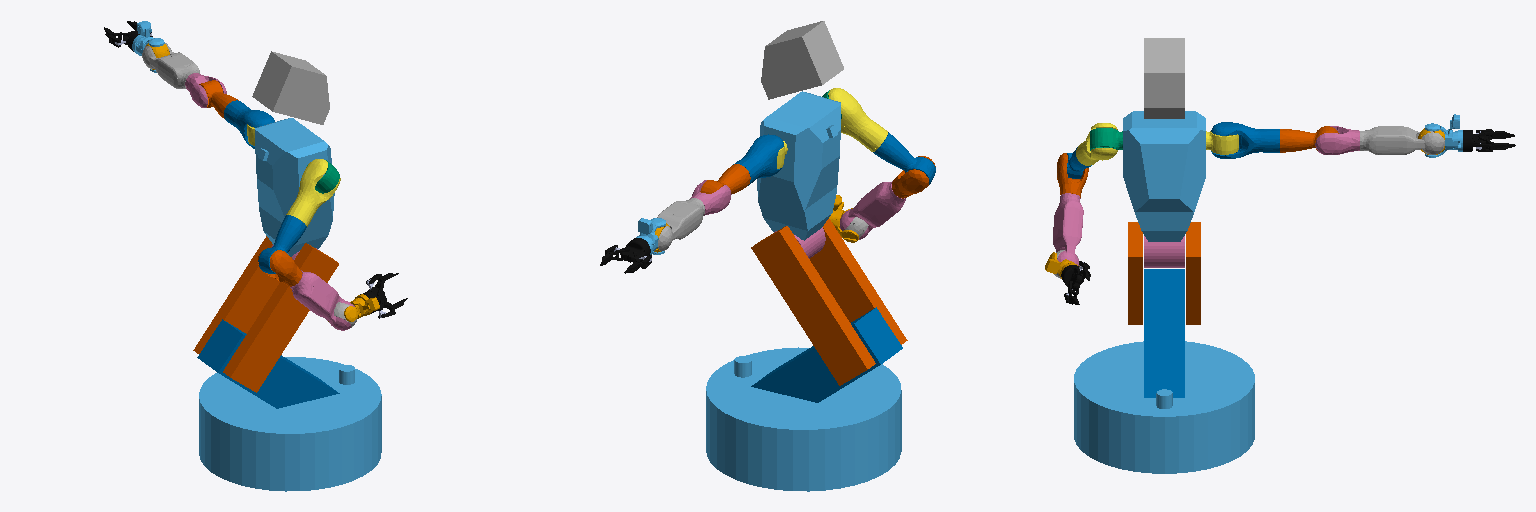
--- What the picture shows (computed from the rendered views, not written in the file) ---
Views: 3 orthographic renders of the robot side by side, from view 1: azimuth 30°, elevation 25°; view 2: azimuth 150°, elevation 25°; view 3: azimuth 270°, elevation 25°.
Robot: galbot_one_charlie — 53 links, 52 joints (13 revolute, 39 fixed); root link base_link; default pose: all joints at 0.
Visible links, largest first — view 1: omni_chassis_base_link, leg_link2, torso_base_link, head_link2, leg_link1, right_arm_link5, right_arm_link2, left_arm_link5, right_arm_link3, left_arm_link2, right_arm_link4, left_arm_link3 (+3 smaller); view 2: omni_chassis_base_link, leg_link2, torso_base_link, head_link2, leg_link1, right_arm_link5, right_arm_link2, left_arm_link5, left_arm_link2, right_arm_link3, left_arm_link3, right_arm_link4 (+2 smaller); view 3: omni_chassis_base_link, torso_base_link, leg_link1, head_link2, leg_link2, left_arm_link5, right_arm_link5, left_arm_link2, leg_link3, left_arm_link4, left_arm_link3, right_arm_link2 (+4 smaller).
Boxes of the visible links, <box> form: omni_chassis_base_link: <box>199,357,381,491</box>; leg_link2: <box>193,236,338,392</box>; torso_base_link: <box>255,118,334,256</box>; head_link2: <box>252,51,329,124</box>; leg_link1: <box>197,319,339,408</box>; right_arm_link5: <box>290,270,354,330</box>; right_arm_link2: <box>286,159,340,226</box>; left_arm_link5: <box>142,43,199,88</box>; right_arm_link3: <box>258,215,306,273</box>; left_arm_link2: <box>224,100,274,148</box>; right_arm_link4: <box>258,250,302,286</box>; left_arm_link3: <box>199,80,238,118</box>; omni_chassis_base_link: <box>706,347,901,491</box>; leg_link2: <box>751,219,907,385</box>; torso_base_link: <box>757,91,840,240</box>; head_link2: <box>761,21,843,99</box>; leg_link1: <box>751,307,902,402</box>; right_arm_link5: <box>840,181,905,239</box>; right_arm_link2: <box>828,88,887,151</box>; left_arm_link5: <box>657,198,704,251</box>; left_arm_link2: <box>733,134,783,185</box>; right_arm_link3: <box>873,132,935,184</box>; left_arm_link3: <box>700,164,750,193</box>; right_arm_link4: <box>892,156,935,198</box>; omni_chassis_base_link: <box>1074,341,1254,473</box>; torso_base_link: <box>1123,111,1205,241</box>; leg_link1: <box>1144,269,1184,397</box>; head_link2: <box>1144,38,1184,118</box>; leg_link2: <box>1128,222,1200,324</box>; left_arm_link5: <box>1360,126,1444,154</box>; right_arm_link5: <box>1053,193,1083,265</box>; left_arm_link2: <box>1211,122,1279,158</box>; leg_link3: <box>1144,236,1184,267</box>; left_arm_link4: <box>1315,126,1359,154</box>; left_arm_link3: <box>1280,126,1338,152</box>; right_arm_link2: <box>1076,123,1117,165</box>.
Size in the robot's own frame: 0.6335 by 1.61 by 1.48 metres.
Meshes: 19 distinct files referenced, 39 mesh visuals loaded (7 binary STL, 12 OBJ).

The robot description file, URDF, robot "galbot_one_charlie":
<?xml version='1.0' encoding='UTF-8'?>
<robot name="galbot_one_charlie">
    <link name="base_link">
        <inertial>
            <origin xyz="0.0 0.0 0.0" rpy="0.0 -0.0 0.0"/>
            <mass value="1.0"/>
            <inertia ixx="1.0" ixy="0.0" ixz="0.0" iyy="1.0" iyz="0.0" izz="1.0"/>
        </inertial>
    </link>
    <link name="omni_chassis_base_link">
        <inertial>
            <origin xyz="0.0031 0.00022 0.09001" rpy="0.0 0.0 0.0"/>
            <mass value="25.85"/>
            <inertia ixx="1.12288" ixy="0.00076" ixz="0.02446" iyy="1.15522" iyz="0.00086" izz="1.58321"/>
        </inertial>
        <visual>
            <geometry>
                <mesh filename="meshes/chassis/omni_chassis_base_link.stl"/>
            </geometry>
            <origin xyz="0.0 0.0 0.0" rpy="0.0 0.0 0.0"/>
        </visual>
        <collision>
            <geometry>
                <sphere radius="0.124"/>
            </geometry>
            <origin xyz="0.0 -0.2 0.11" rpy="0.0 -0.0 0.0"/>
        </collision>
        <collision>
            <geometry>
                <sphere radius="0.124"/>
            </geometry>
            <origin xyz="0.0 0.2 0.11" rpy="0.0 -0.0 0.0"/>
        </collision>
        <collision>
            <geometry>
                <sphere radius="0.1"/>
            </geometry>
            <origin xyz="0.23 0.0 0.19" rpy="0.0 -0.0 0.0"/>
        </collision>
        <collision>
            <geometry>
                <sphere radius="0.1"/>
            </geometry>
            <origin xyz="0.23 0.0 0.08" rpy="0.0 -0.0 0.0"/>
        </collision>
        <collision>
            <geometry>
                <sphere radius="0.124"/>
            </geometry>
            <origin xyz="-0.219 0.0 0.11" rpy="0.0 -0.0 0.0"/>
        </collision>
        <collision>
            <geometry>
                <sphere radius="0.124"/>
            </geometry>
            <origin xyz="-0.157 -0.157 0.11" rpy="0.0 -0.0 0.0"/>
        </collision>
        <collision>
            <geometry>
                <sphere radius="0.123"/>
            </geometry>
            <origin xyz="0.157 0.157 0.11" rpy="0.0 -0.0 0.0"/>
        </collision>
        <collision>
            <geometry>
                <sphere radius="0.123"/>
            </geometry>
            <origin xyz="-0.157 0.157 0.11" rpy="0.0 -0.0 0.0"/>
        </collision>
        <collision>
            <geometry>
                <sphere radius="0.123"/>
            </geometry>
            <origin xyz="0.157 -0.157 0.11" rpy="0.0 -0.0 0.0"/>
        </collision>
    </link>
    <link name="omni_chassis_leg_mount_link">
        <inertial>
            <origin xyz="0.0 0.0 0.0" rpy="0.0 0.0 0.0"/>
            <mass value="0.0"/>
            <inertia ixx="0.0" ixy="0.0" ixz="0.0" iyy="0.0" iyz="0.0" izz="0.0"/>
        </inertial>
    </link>
    <link name="leg_base_link">
        <inertial>
            <origin xyz="0.00138 -0.01502 -0.0536" rpy="0.0 0.0 0.0"/>
            <mass value="1.98"/>
            <inertia ixx="0.01545" ixy="0.00015" ixz="-0.00028" iyy="0.01172" iyz="-0.00071" izz="0.00904"/>
        </inertial>
    </link>
    <link name="leg_link1">
        <inertial>
            <origin xyz="0.23126 0.00187 -0.01166" rpy="0.0 0.0 0.0"/>
            <mass value="13.38"/>
            <inertia ixx="0.0554" ixy="0.00267" ixz="-0.03511" iyy="1.1704" iyz="-0.00012" izz="1.15967"/>
        </inertial>
        <visual>
            <geometry>
                <mesh filename="meshes/leg/leg_link1.stl"/>
            </geometry>
            <origin xyz="0.0 0.0 0.0" rpy="0.0 0.0 0.0"/>
        </visual>
        <collision>
            <geometry>
                <sphere radius="0.1"/>
            </geometry>
            <origin xyz="0.0 0.0 0.0" rpy="0.0 -0.0 0.0"/>
        </collision>
        <collision>
            <geometry>
                <sphere radius="0.1"/>
            </geometry>
            <origin xyz="0.1 -0.03 0.0" rpy="0.0 -0.0 0.0"/>
        </collision>
        <collision>
            <geometry>
                <sphere radius="0.1"/>
            </geometry>
            <origin xyz="0.22 -0.03 0.0" rpy="0.0 -0.0 0.0"/>
        </collision>
        <collision>
            <geometry>
                <sphere radius="0.1"/>
            </geometry>
            <origin xyz="0.33 -0.03 0.0" rpy="0.0 -0.0 0.0"/>
        </collision>
    </link>
    <link name="leg_link2">
        <inertial>
            <origin xyz="0.1834 1e-05 0.01143" rpy="0.0 0.0 0.0"/>
            <mass value="4.72"/>
            <inertia ixx="0.04727" ixy="1e-05" ixz="0.01147" iyy="0.29026" iyz="1e-05" izz="0.25782"/>
        </inertial>
        <visual>
            <geometry>
                <mesh filename="meshes/leg/leg_link2.stl"/>
            </geometry>
            <origin xyz="0.0 0.0 0.0" rpy="0.0 0.0 0.0"/>
        </visual>
        <collision>
            <geometry>
                <sphere radius="0.14"/>
            </geometry>
            <origin xyz="0.0 0.0 0.0" rpy="0.0 -0.0 0.0"/>
        </collision>
        <collision>
            <geometry>
                <sphere radius="0.14"/>
            </geometry>
            <origin xyz="0.13 0.0 0.0" rpy="0.0 -0.0 0.0"/>
        </collision>
        <collision>
            <geometry>
                <sphere radius="0.14"/>
            </geometry>
            <origin xyz="0.26 0.0 0.0" rpy="0.0 -0.0 0.0"/>
        </collision>
        <collision>
            <geometry>
                <sphere radius="0.14"/>
            </geometry>
            <origin xyz="0.4 0.0 0.0" rpy="0.0 -0.0 0.0"/>
        </collision>
    </link>
    <link name="leg_link3">
        <inertial>
            <origin xyz="4e-05 0.03287 -0.00556" rpy="0.0 0.0 0.0"/>
            <mass value="6.04"/>
            <inertia ixx="0.02981" ixy="1e-05" ixz="-0.0" iyy="0.02294" iyz="-0.00079" izz="0.03182"/>
        </inertial>
        <visual>
            <geometry>
                <mesh filename="meshes/leg/leg_link3.stl"/>
            </geometry>
            <origin xyz="0.0 0.0 0.0" rpy="0.0 0.0 0.0"/>
        </visual>
    </link>
    <link name="leg_link4">
        <inertial>
            <origin xyz="6e-05 -3e-05 0.14494" rpy="0.0 0.0 0.0"/>
            <mass value="0.55"/>
            <inertia ixx="0.01267" ixy="0.0" ixz="1e-05" iyy="0.0127" iyz="-0.0" izz="0.00125"/>
        </inertial>
        <visual>
            <geometry>
                <mesh filename="meshes/leg/leg_link4.stl"/>
            </geometry>
            <origin xyz="0.0 0.0 0.0" rpy="0.0 0.0 0.0"/>
        </visual>
    </link>
    <link name="leg_end_effector_mount_link">
        <inertial>
            <origin xyz="0.0 0.0 0.0" rpy="0.0 0.0 0.0"/>
            <mass value="0.0"/>
            <inertia ixx="0.0" ixy="0.0" ixz="0.0" iyy="0.0" iyz="0.0" izz="0.0"/>
        </inertial>
    </link>
    <link name="torso_base_link">
        <inertial>
            <origin xyz="4e-05 0.00011 0.32719" rpy="0.0 0.0 0.0"/>
            <mass value="6.68"/>
            <inertia ixx="0.87119" ixy="9e-05" ixz="-0.00496" iyy="0.85457" iyz="0.00295" izz="0.0656"/>
        </inertial>
        <visual>
            <geometry>
                <mesh filename="meshes/torso/torso_base_link.stl"/>
            </geometry>
            <origin xyz="0.0 0.0 0.0" rpy="0.0 0.0 0.0"/>
        </visual>
        <collision>
            <geometry>
                <sphere radius="0.22"/>
            </geometry>
            <origin xyz="0.0 0.0 0.34" rpy="0.0 -0.0 0.0"/>
        </collision>
        <collision>
            <geometry>
                <sphere radius="0.14"/>
            </geometry>
            <origin xyz="0.0 0.0 0.18" rpy="0.0 -0.0 0.0"/>
        </collision>
        <collision>
            <geometry>
                <sphere radius="0.14"/>
            </geometry>
            <origin xyz="0.0 -0.06 0.38" rpy="0.0 -0.0 0.0"/>
        </collision>
        <collision>
            <geometry>
                <sphere radius="0.14"/>
            </geometry>
            <origin xyz="0.0 0.06 0.38" rpy="0.0 -0.0 0.0"/>
        </collision>
    </link>
    <link name="torso_head_mount_link">
        <inertial>
            <origin xyz="0.0 0.0 0.0" rpy="0.0 0.0 0.0"/>
            <mass value="0.0"/>
            <inertia ixx="0.0" ixy="0.0" ixz="0.0" iyy="0.0" iyz="0.0" izz="0.0"/>
        </inertial>
    </link>
    <link name="torso_right_arm_mount_link">
        <inertial>
            <origin xyz="0.0 0.0 0.0" rpy="0.0 0.0 0.0"/>
            <mass value="0.0"/>
            <inertia ixx="0.0" ixy="0.0" ixz="0.0" iyy="0.0" iyz="0.0" izz="0.0"/>
        </inertial>
    </link>
    <link name="torso_left_arm_mount_link">
        <inertial>
            <origin xyz="0.0 0.0 0.0" rpy="0.0 0.0 0.0"/>
            <mass value="0.0"/>
            <inertia ixx="0.0" ixy="0.0" ixz="0.0" iyy="0.0" iyz="0.0" izz="0.0"/>
        </inertial>
    </link>
    <link name="head_base_link">
        <inertial>
            <origin xyz="0.0 0.0 0.0" rpy="0.0 0.0 0.0"/>
            <mass value="0.0"/>
            <inertia ixx="0.018397" ixy="-6.5897e-07" ixz="0.00030036" iyy="0.013058" iyz="0.00016843" izz="0.0082332"/>
        </inertial>
    </link>
    <link name="head_link1">
        <inertial>
            <origin xyz="0.0 4e-05 -0.04238" rpy="0.0 0.0 0.0"/>
            <mass value="0.41"/>
            <inertia ixx="0.0011" ixy="-0.0" ixz="0.0" iyy="0.00113" iyz="8e-05" izz="0.00014"/>
        </inertial>
    </link>
    <link name="head_link2">
        <inertial>
            <origin xyz="0.032 -0.03753 0.00162" rpy="0.0 0.0 0.0"/>
            <mass value="0.75"/>
            <inertia ixx="0.0038" ixy="-0.0007" ixz="0.0" iyy="0.00367" iyz="-0.0" izz="0.00538"/>
        </inertial>
        <visual>
            <geometry>
                <mesh filename="meshes/head/head_link2.stl"/>
            </geometry>
            <origin xyz="0.0 0.0 0.0" rpy="0.0 0.0 0.0"/>
        </visual>
        <collision>
            <geometry>
                <sphere radius="0.15"/>
            </geometry>
            <origin xyz="0.0 0.0 0.0" rpy="0.0 -0.0 0.0"/>
        </collision>
    </link>
    <link name="head_end_effector_mount_link">
        <inertial>
            <origin xyz="0.0 0.0 0.0" rpy="0.0 0.0 0.0"/>
            <mass value="0.0"/>
            <inertia ixx="0.0" ixy="0.0" ixz="0.0" iyy="0.0" iyz="0.0" izz="0.0"/>
        </inertial>
    </link>

    <!--  Right Arm Links  -->
    <link name="right_arm_base_link">
        <inertial>
            <origin xyz="0.00037 6e-05 -0.11407" rpy="0.0 0.0 0.0"/>
            <mass value="0.9"/>
            <inertia ixx="0.01248" ixy="0.0" ixz="3e-05" iyy="0.01247" iyz="3e-05" izz="0.00056"/>
        </inertial>
    </link>
    <link name="right_arm_link1">
        <inertial>
            <origin xyz="0.0 0.0065 -0.01459" rpy="0.0 0.0 0.0"/>
            <mass value="1.48"/>
            <inertia ixx="0.00378" ixy="0.0" ixz="0.0" iyy="0.0046" iyz="8e-05" izz="0.00217"/>
        </inertial>
        <visual>
            <geometry>
                <mesh filename="meshes/arm/visual/left_arm_link1.obj"/>
            </geometry>
            <origin xyz="0.0 0.0 0.0" rpy="0.0 0.0 0.0"/>
        </visual>
        <collision>
            <geometry>
                <mesh filename="meshes/arm/collision/left_arm_link1.stl"/>
            </geometry>
            <origin xyz="0.0 0.0 0.0" rpy="0.0 0.0 0.0"/>
        </collision>
    </link>
    <link name="right_arm_link2">
        <inertial>
            <origin xyz="-0.0008 -0.09873 0.00815" rpy="0.0 0.0 0.0"/>
            <mass value="1.33"/>
            <inertia ixx="0.01827" ixy="3e-05" ixz="1e-05" iyy="0.00232" iyz="0.0008" izz="0.01769"/>
        </inertial>
        <visual>
            <geometry>
                <mesh filename="meshes/arm/visual/left_arm_link2.obj"/>
            </geometry>
            <origin xyz="0.0 0.0 0.0" rpy="3.14159 0.0 0.0"/>
        </visual>
        <collision>
            <geometry>
                <mesh filename="meshes/arm/collision/left_arm_link2.stl"/>
            </geometry>
            <origin xyz="0.0 0.0 0.0" rpy="3.14159 0.0 0.0"/>
        </collision>
    </link>
    <link name="right_arm_link3">
        <inertial>
            <origin xyz="-0.00019 -0.0033 -0.04824" rpy="0.0 0.0 0.0"/>
            <mass value="1.25"/>
            <inertia ixx="0.00955" ixy="0.0" ixz="1e-05" iyy="0.00983" iyz="7e-05" izz="0.00151"/>
        </inertial>
        <visual>
            <geometry>
                <mesh filename="meshes/arm/visual/left_arm_link3.obj"/>
            </geometry>
            <origin xyz="0.0 0.0 0.0" rpy="0.0 0.0 0.0"/>
        </visual>
        <collision>
            <geometry>
                <mesh filename="meshes/arm/collision/left_arm_link3.stl"/>
            </geometry>
            <origin xyz="0.0 0.0 0.0" rpy="0.0 0.0 0.0"/>
        </collision>
    </link>
    <link name="right_arm_link4">
        <inertial>
            <origin xyz="0.0 -0.06457 0.00899" rpy="0.0 0.0 0.0"/>
            <mass value="0.8"/>
            <inertia ixx="0.00529" ixy="0.0" ixz="0.0" iyy="0.0012" iyz="0.0003" izz="0.00488"/>
        </inertial>
        <visual>
            <geometry>
                <mesh filename="meshes/arm/visual/left_arm_link4.obj"/>
            </geometry>
            <origin xyz="0.0 0.0 0.0" rpy="3.14159 0.0 0.0"/>
        </visual>
        <collision>
            <geometry>
                <mesh filename="meshes/arm/collision/left_arm_link4.stl"/>
            </geometry>
            <origin xyz="0.0 0.0 0.0" rpy="3.14159 0.0 0.0"/>
        </collision>
    </link>
    <link name="right_arm_link5">
        <inertial>
            <origin xyz="0.00201 -0.00042 -0.14589" rpy="0.0 0.0 0.0"/>
            <mass value="1.22"/>
            <inertia ixx="0.03428" ixy="1e-05" ixz="0.00032" iyy="0.03366" iyz="5e-05" izz="0.00222"/>
        </inertial>
        <visual>
            <geometry>
                <mesh filename="meshes/arm/visual/left_arm_link5.obj"/>
            </geometry>
            <origin xyz="0.0 0.0 0.0" rpy="0.0 0.0 0.0"/>
        </visual>
        <collision>
            <geometry>
                <mesh filename="meshes/arm/collision/left_arm_link5.stl"/>
            </geometry>
            <origin xyz="0.0 0.0 0.0" rpy="0.0 0.0 0.0"/>
        </collision>
    </link>
    <link name="right_arm_link6">
        <inertial>
            <origin xyz="0.0 0.01031 0.0" rpy="0.0 0.0 0.0"/>
            <mass value="0.43"/>
            <inertia ixx="0.00051" ixy="0.0" ixz="0.0" iyy="0.0007" iyz="0.0" izz="0.00091"/>
        </inertial>
        <visual>
            <geometry>
                <mesh filename="meshes/arm/visual/left_arm_link6.obj"/>
            </geometry>
            <origin xyz="0.0 0.0 0.0" rpy="0.0 0.0 0.0"/>
        </visual>
        <collision>
            <geometry>
                <mesh filename="meshes/arm/collision/left_arm_link6.stl"/>
            </geometry>
            <origin xyz="0.0 0.0 0.0" rpy="0.0 0.0 0.0"/>
        </collision>
    </link>
    <link name="right_arm_link7">
        <inertial>
            <origin xyz="-0.03291 0.00799 -0.00131" rpy="0.0 0.0 0.0"/>
            <mass value="0.6"/>
            <inertia ixx="0.00124" ixy="0.0003" ixz="0.00013" iyy="0.00198" iyz="7e-05" izz="0.00164"/>
        </inertial>
        <visual>
            <geometry>
                <mesh filename="meshes/arm/visual/left_arm_link7_simple.obj"/>
            </geometry>
            <origin xyz="0.0 0.0 0.0" rpy="0.0 0.0 0.0"/>
        </visual>
        <collision>
            <geometry>
                <mesh filename="meshes/arm/collision/left_arm_link7_simple.stl"/>
            </geometry>
            <origin xyz="0.0 0.0 0.0" rpy="0.0 0.0 0.0"/>
        </collision>
    </link>

    <!--  Right Tool Link  -->
    <link name="right_robotiq_arg2f_base_link">
        <inertial>
            <origin rpy="0 0 0" xyz="8.625E-08 -4.6583E-06 0.03145"/>
            <mass value="0.22652"/>
            <inertia ixx="0.00020005" ixy="-4.2442E-10" ixz="-2.9069E-10" iyy="0.00017832" iyz="-3.4402E-08"
                     izz="0.00013478"/>
        </inertial>
        <visual>
            <origin rpy="0 0 0" xyz="0 0 0"/>
            <geometry>
                <mesh filename="meshes/gripper/visual/robotiq_arg2f_85_base_link.obj"/>
            </geometry>
            <material name="">
                <color rgba="0.1 0.1 0.1 1"/>
            </material>
        </visual>
        <collision>
            <origin rpy="0 0 0" xyz="0 0 0"/>
            <geometry>
                <mesh filename="meshes/gripper/collision/robotiq_arg2f_base_link.stl"/>
            </geometry>
        </collision>
    </link>
    <link name="right_robotiq_left_outer_knuckle">
        <inertial>
            <origin xyz="-0.000200000000003065 0.0199435877845359 0.0292245259211331" rpy="0 0 0"/>
            <mass value="0.00853198276973456"/>
            <inertia ixx="2.89328108496468E-06" ixy="-1.57935047237397E-19" ixz="-1.93980378593255E-19"
                     iyy="1.86719750325683E-06" iyz="-1.21858577871576E-06" izz="1.21905238907251E-06"/>
        </inertial>
        <visual>
            <origin rpy="0 0 0" xyz="0 0 0"/>
            <geometry>
                <mesh filename="meshes/gripper/visual/robotiq_arg2f_85_outer_knuckle.obj"/>
            </geometry>
            <material name="">
                <color rgba="0.792156862745098 0.819607843137255 0.933333333333333 1"/>
            </material>
        </visual>
        <collision>
            <origin rpy="0 0 0" xyz="0 0 0"/>
            <geometry>
                <mesh filename="meshes/gripper/collision/robotiq_arg2f_85_outer_knuckle.obj"/>
            </geometry>
        </collision>
    </link>
    <link name="right_robotiq_left_outer_finger">
        <inertial>
            <origin xyz="0.00030115855001899 0.0373907951953854 -0.0208027427000385" rpy="0 0 0"/>
            <mass value="0.022614240507152"/>
            <inertia ixx="1.52518312458174E-05" ixy="9.76583423954399E-10" ixz="-5.43838577022588E-10"
                     iyy="6.17694243867776E-06" iyz="6.78636130740228E-06" izz="1.16494917907219E-05"/>
        </inertial>
        <visual>
            <origin rpy="0 0 0" xyz="0 0 0"/>
            <geometry>
                <mesh filename="meshes/gripper/visual/robotiq_arg2f_85_outer_finger.obj"/>
            </geometry>
            <material name="">
                <color rgba="0.1 0.1 0.1 1"/>
            </material>
        </visual>
        <collision>
            <origin rpy="0 0 0" xyz="0 0 0"/>
            <geometry>
                <mesh filename="meshes/gripper/collision/robotiq_arg2f_85_outer_finger.obj"/>
            </geometry>
        </collision>
    </link>
    <link name="right_robotiq_left_inner_finger">
        <inertial>
            <origin xyz="0.000299999999999317 0.0160078233491243 -0.0136945669206257" rpy="0 0 0"/>
            <mass value="0.0104003125914103"/>
            <inertia ixx="2.71909453810972E-06" ixy="1.35402465472579E-21" ixz="-7.1817349065269E-22"
                     iyy="7.69100314106116E-07" iyz="6.74715432769696E-07" izz="2.30315190420171E-06"/>
        </inertial>
        <visual>
            <origin rpy="0 0 0" xyz="0 0 0"/>
            <geometry>
                <mesh filename="meshes/gripper/visual/robotiq_arg2f_85_inner_finger_GT.obj"/>
            </geometry>
            <material name="">
                <color rgba="0.1 0.1 0.1 1"/>
            </material>
        </visual>
        <collision>
            <origin rpy="0 0 0" xyz="0 0 0"/>
            <geometry>
                <mesh filename="meshes/gripper/collision/robotiq_arg2f_85_inner_finger_GT_convex.stl"/>
            </geometry>
        </collision>
    </link>
    <link name="right_robotiq_left_inner_knuckle">
        <inertial>
            <origin xyz="0.000123011831763771 0.0507850843201817 0.00103968640075166" rpy="0 0 0"/>
            <mass value="0.0271177346495152"/>
            <inertia ixx="2.61910379223783E-05" ixy="-2.43616858946494E-07" ixz="-6.37789906117123E-09"
                     iyy="2.8270243746167E-06" iyz="-5.37200748039765E-07" izz="2.83695868220296E-05"/>
        </inertial>
        <visual>
            <origin rpy="0 0 0" xyz="0 0 0"/>
            <geometry>
                <mesh filename="meshes/gripper/visual/robotiq_arg2f_85_inner_knuckle.obj"/>
            </geometry>
            <material name="">
                <color rgba="0.1 0.1 0.1 1"/>
            </material>
        </visual>
        <collision>
            <origin rpy="0 0 0" xyz="0 0 0"/>
            <geometry>
                <mesh filename="meshes/gripper/collision/robotiq_arg2f_85_inner_knuckle.obj"/>
            </geometry>
        </collision>
    </link>
    <link name="right_robotiq_right_outer_knuckle">
        <inertial>
            <origin xyz="-0.000200000000003065 0.0199435877845359 0.0292245259211331" rpy="0 0 0"/>
            <mass value="0.00853198276973456"/>
            <inertia ixx="2.89328108496468E-06" ixy="-1.57935047237397E-19" ixz="-1.93980378593255E-19"
                     iyy="1.86719750325683E-06" iyz="-1.21858577871576E-06" izz="1.21905238907251E-06"/>
        </inertial>
        <visual>
            <origin rpy="0 0 0" xyz="0 0 0"/>
            <geometry>
                <mesh filename="meshes/gripper/visual/robotiq_arg2f_85_outer_knuckle.obj"/>
            </geometry>
            <material name="">
                <color rgba="0.792156862745098 0.819607843137255 0.933333333333333 1"/>
            </material>
        </visual>
        <collision>
            <origin rpy="0 0 0" xyz="0 0 0"/>
            <geometry>
                <mesh filename="meshes/gripper/collision/robotiq_arg2f_85_outer_knuckle.obj"/>
            </geometry>
        </collision>
    </link>
    <link name="right_robotiq_right_outer_finger">
        <inertial>
            <origin xyz="0.00030115855001899 0.0373907951953854 -0.0208027427000385" rpy="0 0 0"/>
            <mass value="0.022614240507152"/>
            <inertia ixx="1.52518312458174E-05" ixy="9.76583423954399E-10" ixz="-5.43838577022588E-10"
                     iyy="6.17694243867776E-06" iyz="6.78636130740228E-06" izz="1.16494917907219E-05"/>
        </inertial>
        <visual>
            <origin rpy="0 0 0" xyz="0 0 0"/>
            <geometry>
                <mesh filename="meshes/gripper/visual/robotiq_arg2f_85_outer_finger.obj"/>
            </geometry>
            <material name="">
                <color rgba="0.1 0.1 0.1 1"/>
            </material>
        </visual>
        <collision>
            <origin rpy="0 0 0" xyz="0 0 0"/>
            <geometry>
                <mesh filename="meshes/gripper/collision/robotiq_arg2f_85_outer_finger.obj"/>
            </geometry>
        </collision>
    </link>
    <link name="right_robotiq_right_inner_finger">
        <inertial>
            <origin xyz="0.000299999999999317 0.0160078233491243 -0.0136945669206257" rpy="0 0 0"/>
            <mass value="0.0104003125914103"/>
            <inertia ixx="2.71909453810972E-06" ixy="1.35402465472579E-21" ixz="-7.1817349065269E-22"
                     iyy="7.69100314106116E-07" iyz="6.74715432769696E-07" izz="2.30315190420171E-06"/>
        </inertial>
        <visual>
            <origin rpy="0 0 0" xyz="0 0 0"/>
            <geometry>
                <mesh filename="meshes/gripper/visual/robotiq_arg2f_85_inner_finger_GT.obj"/>
            </geometry>
            <material name="">
                <color rgba="0.1 0.1 0.1 1"/>
            </material>
        </visual>
        <collision>
            <origin rpy="0 0 0" xyz="0 0 0"/>
            <geometry>
                <mesh filename="meshes/gripper/collision/robotiq_arg2f_85_inner_finger_GT_convex.stl"/>
            </geometry>
        </collision>
    </link>
    <link name="right_robotiq_right_inner_knuckle">
        <inertial>
            <origin xyz="0.000123011831763771 0.0507850843201817 0.00103968640075166" rpy="0 0 0"/>
            <mass value="0.0271177346495152"/>
            <inertia ixx="2.61910379223783E-05" ixy="-2.43616858946494E-07" ixz="-6.37789906117123E-09"
                     iyy="2.8270243746167E-06" iyz="-5.37200748039765E-07" izz="2.83695868220296E-05"/>
        </inertial>
        <visual>
            <origin rpy="0 0 0" xyz="0 0 0"/>
            <geometry>
                <mesh filename="meshes/gripper/visual/robotiq_arg2f_85_inner_knuckle.obj"/>
            </geometry>
            <material name="">
                <color rgba="0.1 0.1 0.1 1"/>
            </material>
        </visual>
        <collision>
            <origin rpy="0 0 0" xyz="0 0 0"/>
            <geometry>
                <mesh filename="meshes/gripper/collision/robotiq_arg2f_85_inner_knuckle.obj"/>
            </geometry>
        </collision>
    </link>

    <!--  Left Arm Links  -->
    <link name="left_arm_base_link">
        <inertial>
            <origin xyz="-0.00037 -6e-05 -0.11407" rpy="0.0 0.0 0.0"/>
            <mass value="0.9"/>
            <inertia ixx="0.01248" ixy="0.0" ixz="3e-05" iyy="0.01247" iyz="3e-05" izz="0.00056"/>
        </inertial>
    </link>
    <link name="left_arm_link1">
        <inertial>
            <origin xyz="0.0 0.0065 -0.01459" rpy="0.0 0.0 0.0"/>
            <mass value="1.48"/>
            <inertia ixx="0.00378" ixy="0.0" ixz="0.0" iyy="0.0046" iyz="0.0002" izz="0.00217"/>
        </inertial>
        <visual>
            <geometry>
                <mesh filename="meshes/arm/visual/left_arm_link1.obj"/>
            </geometry>
            <origin xyz="0.0 0.0 0.0" rpy="0.0 0.0 0.0"/>
        </visual>
        <collision>
            <geometry>
                <mesh filename="meshes/arm/collision/left_arm_link1.stl"/>
            </geometry>
            <origin xyz="0.0 0.0 0.0" rpy="0.0 0.0 0.0"/>
        </collision>
    </link>
    <link name="left_arm_link2">
        <inertial>
            <origin xyz="-0.0008 0.09873 0.00815" rpy="0.0 0.0 0.0"/>
            <mass value="1.33"/>
            <inertia ixx="0.01827" ixy="3e-05" ixz="3e-05" iyy="0.00232" iyz="0.00134" izz="0.01769"/>
        </inertial>
        <visual>
            <geometry>
                <mesh filename="meshes/arm/visual/left_arm_link2.obj"/>
            </geometry>
            <origin xyz="0.0 0.0 0.0" rpy="0.0 0.0 0.0"/>
        </visual>
        <collision>
            <geometry>
                <mesh filename="meshes/arm/collision/left_arm_link2.stl"/>
            </geometry>
            <origin xyz="0.0 0.0 0.0" rpy="0.0 0.0 0.0"/>
        </collision>
    </link>
    <link name="left_arm_link3">
        <inertial>
            <origin xyz="0.00019 0.0033 -0.04824" rpy="0.0 0.0 0.0"/>
            <mass value="1.25"/>
            <inertia ixx="0.00955" ixy="0.0" ixz="1e-05" iyy="0.00983" iyz="7e-05" izz="0.00151"/>
        </inertial>
        <visual>
            <geometry>
                <mesh filename="meshes/arm/visual/left_arm_link3.obj"/>
            </geometry>
            <origin xyz="0.0 0.0 0.0" rpy="0.0 0.0 0.0"/>
        </visual>
        <collision>
            <geometry>
                <mesh filename="meshes/arm/collision/left_arm_link3.stl"/>
            </geometry>
            <origin xyz="0.0 0.0 0.0" rpy="0.0 0.0 0.0"/>
        </collision>
    </link>
    <link name="left_arm_link4">
        <inertial>
            <origin xyz="0.0 0.06457 0.00899" rpy="0.0 0.0 0.0"/>
            <mass value="0.8"/>
            <inertia ixx="0.00529" ixy="0.0" ixz="0.0" iyy="0.0012" iyz="0.0003" izz="0.00488"/>
        </inertial>
        <visual>
            <geometry>
                <mesh filename="meshes/arm/visual/left_arm_link4.obj"/>
            </geometry>
            <origin xyz="0.0 0.0 0.0" rpy="0.0 0.0 0.0"/>
        </visual>
        <collision>
            <geometry>
                <mesh filename="meshes/arm/collision/left_arm_link4.stl"/>
            </geometry>
            <origin xyz="0.0 0.0 0.0" rpy="0.0 0.0 0.0"/>
        </collision>
    </link>
    <link name="left_arm_link5">
        <inertial>
            <origin xyz="-0.00201 0.00042 -0.14589" rpy="0.0 0.0 0.0"/>
            <mass value="1.22"/>
            <inertia ixx="0.03428" ixy="1e-05" ixz="0.00039" iyy="0.03366" iyz="0.0001" izz="0.00222"/>
        </inertial>
        <visual>
            <geometry>
                <mesh filename="meshes/arm/visual/left_arm_link5.obj"/>
            </geometry>
            <origin xyz="0.0 0.0 0.0" rpy="0.0 0.0 0.0"/>
        </visual>
        <collision>
            <geometry>
                <mesh filename="meshes/arm/collision/left_arm_link5.stl"/>
            </geometry>
            <origin xyz="0.0 0.0 0.0" rpy="0.0 0.0 0.0"/>
        </collision>
    </link>
    <link name="left_arm_link6">
        <inertial>
            <origin xyz="0.0 -0.01031 0.0" rpy="0.0 0.0 0.0"/>
            <mass value="0.43"/>
            <inertia ixx="0.00051" ixy="0.0" ixz="0.0" iyy="0.0007" iyz="0.0" izz="0.00091"/>
        </inertial>
        <visual>
            <geometry>
                <mesh filename="meshes/arm/visual/left_arm_link6.obj"/>
            </geometry>
            <origin xyz="0.0 0.0 0.0" rpy="0.0 0.0 0.0"/>
        </visual>
        <collision>
            <geometry>
                <mesh filename="meshes/arm/collision/left_arm_link6.stl"/>
            </geometry>
            <origin xyz="0.0 0.0 0.0" rpy="0.0 0.0 0.0"/>
        </collision>
    </link>
    <link name="left_arm_link7">
        <inertial>
            <origin xyz="-0.03291 0.00799 -0.00131" rpy="0.0 0.0 0.0"/>
            <mass value="0.6"/>
            <inertia ixx="0.00124" ixy="0.0" ixz="0.00012" iyy="0.00197" iyz="4e-05" izz="0.00165"/>
        </inertial>
        <visual>
            <geometry>
                <mesh filename="meshes/arm/visual/left_arm_link7_simple.obj"/>
            </geometry>
            <origin xyz="0.0 0.0 0.0" rpy="0.0 0.0 0.0"/>
        </visual>
        <collision>
            <geometry>
                <mesh filename="meshes/arm/collision/left_arm_link7_simple.stl"/>
            </geometry>
            <origin xyz="0.0 0.0 0.0" rpy="0.0 0.0 0.0"/>
        </collision>
    </link>
    <link name="left_arm_end_effector_mount_link">
        <inertial>
            <origin xyz="0.0 0.0 0.0" rpy="0.0 0.0 0.0"/>
            <mass value="0.0"/>
            <inertia ixx="0.0" ixy="0.0" ixz="0.0" iyy="0.0" iyz="0.0" izz="0.0"/>
        </inertial>
    </link>
    <link name="left_gripper_tcp_link">
        <!--        <visual>-->
        <!--            <geometry>-->
        <!--                <mesh filename="meshes/debug/axis.dae"/>-->
        <!--            </geometry>-->
        <!--            <origin xyz="0.0 0.0 0.0" rpy="0.0 0.0 0.0"/>-->
        <!--        </visual>-->
    </link>

    <!--  Tool Link  -->
    <link name="robotiq_arg2f_base_link">
        <inertial>
            <origin rpy="0 0 0" xyz="8.625E-08 -4.6583E-06 0.03145"/>
            <mass value="0.22652"/>
            <inertia ixx="0.00020005" ixy="-4.2442E-10" ixz="-2.9069E-10" iyy="0.00017832" iyz="-3.4402E-08"
                     izz="0.00013478"/>
        </inertial>
        <visual>
            <origin rpy="0 0 0" xyz="0 0 0"/>
            <geometry>
                <mesh filename="meshes/gripper/visual/robotiq_arg2f_85_base_link.obj"/>
            </geometry>
            <material name="">
                <color rgba="0.1 0.1 0.1 1"/>
            </material>
        </visual>
        <collision>
            <origin rpy="0 0 0" xyz="0 0 0"/>
            <geometry>
                <mesh filename="meshes/gripper/collision/robotiq_arg2f_base_link.stl"/>
            </geometry>
        </collision>
    </link>
    <link name="left_outer_knuckle">
        <inertial>
            <origin xyz="-0.000200000000003065 0.0199435877845359 0.0292245259211331" rpy="0 0 0"/>
            <mass value="0.00853198276973456"/>
            <inertia ixx="2.89328108496468E-06" ixy="-1.57935047237397E-19" ixz="-1.93980378593255E-19"
                     iyy="1.86719750325683E-06" iyz="-1.21858577871576E-06" izz="1.21905238907251E-06"/>
        </inertial>
        <visual>
            <origin rpy="0 0 0" xyz="0 0 0"/>
            <geometry>
                <mesh filename="meshes/gripper/visual/robotiq_arg2f_85_outer_knuckle.obj"/>
            </geometry>
            <material name="">
                <color rgba="0.792156862745098 0.819607843137255 0.933333333333333 1"/>
            </material>
        </visual>
        <collision>
            <origin rpy="0 0 0" xyz="0 0 0"/>
            <geometry>
                <mesh filename="meshes/gripper/collision/robotiq_arg2f_85_outer_knuckle.obj"/>
            </geometry>
        </collision>
    </link>
    <link name="left_outer_finger">
        <inertial>
            <origin xyz="0.00030115855001899 0.0373907951953854 -0.0208027427000385" rpy="0 0 0"/>
            <mass value="0.022614240507152"/>
            <inertia ixx="1.52518312458174E-05" ixy="9.76583423954399E-10" ixz="-5.43838577022588E-10"
                     iyy="6.17694243867776E-06" iyz="6.78636130740228E-06" izz="1.16494917907219E-05"/>
        </inertial>
        <visual>
            <origin rpy="0 0 0" xyz="0 0 0"/>
            <geometry>
                <mesh filename="meshes/gripper/visual/robotiq_arg2f_85_outer_finger.obj"/>
            </geometry>
            <material name="">
                <color rgba="0.1 0.1 0.1 1"/>
            </material>
        </visual>
        <collision>
            <origin rpy="0 0 0" xyz="0 0 0"/>
            <geometry>
                <mesh filename="meshes/gripper/collision/robotiq_arg2f_85_outer_finger.obj"/>
            </geometry>
        </collision>
    </link>
    <link name="left_inner_finger">
        <inertial>
            <origin xyz="0.000299999999999317 0.0160078233491243 -0.0136945669206257" rpy="0 0 0"/>
            <mass value="0.0104003125914103"/>
            <inertia ixx="2.71909453810972E-06" ixy="1.35402465472579E-21" ixz="-7.1817349065269E-22"
                     iyy="7.69100314106116E-07" iyz="6.74715432769696E-07" izz="2.30315190420171E-06"/>
        </inertial>
        <visual>
            <origin rpy="0 0 0" xyz="0 0 0"/>
            <geometry>
                <mesh filename="meshes/gripper/visual/robotiq_arg2f_85_inner_finger_GT.obj"/>
            </geometry>
            <material name="">
                <color rgba="0.1 0.1 0.1 1"/>
            </material>
        </visual>
        <collision>
            <origin rpy="0 0 0" xyz="0 0 0"/>
            <geometry>
                <mesh filename="meshes/gripper/collision/robotiq_arg2f_85_inner_finger_GT_convex.stl"/>
            </geometry>
        </collision>
    </link>
    <link name="left_inner_knuckle">
        <inertial>
            <origin xyz="0.000123011831763771 0.0507850843201817 0.00103968640075166" rpy="0 0 0"/>
            <mass value="0.0271177346495152"/>
            <inertia ixx="2.61910379223783E-05" ixy="-2.43616858946494E-07" ixz="-6.37789906117123E-09"
                     iyy="2.8270243746167E-06" iyz="-5.37200748039765E-07" izz="2.83695868220296E-05"/>
        </inertial>
        <visual>
            <origin rpy="0 0 0" xyz="0 0 0"/>
            <geometry>
                <mesh filename="meshes/gripper/visual/robotiq_arg2f_85_inner_knuckle.obj"/>
            </geometry>
            <material name="">
                <color rgba="0.1 0.1 0.1 1"/>
            </material>
        </visual>
        <collision>
            <origin rpy="0 0 0" xyz="0 0 0"/>
            <geometry>
                <mesh filename="meshes/gripper/collision/robotiq_arg2f_85_inner_knuckle.obj"/>
            </geometry>
        </collision>
    </link>
    <link name="right_outer_knuckle">
        <inertial>
            <origin xyz="-0.000200000000003065 0.0199435877845359 0.0292245259211331" rpy="0 0 0"/>
            <mass value="0.00853198276973456"/>
            <inertia ixx="2.89328108496468E-06" ixy="-1.57935047237397E-19" ixz="-1.93980378593255E-19"
                     iyy="1.86719750325683E-06" iyz="-1.21858577871576E-06" izz="1.21905238907251E-06"/>
        </inertial>
        <visual>
            <origin rpy="0 0 0" xyz="0 0 0"/>
            <geometry>
                <mesh filename="meshes/gripper/visual/robotiq_arg2f_85_outer_knuckle.obj"/>
            </geometry>
            <material name="">
                <color rgba="0.792156862745098 0.819607843137255 0.933333333333333 1"/>
            </material>
        </visual>
        <collision>
            <origin rpy="0 0 0" xyz="0 0 0"/>
            <geometry>
                <mesh filename="meshes/gripper/collision/robotiq_arg2f_85_outer_knuckle.obj"/>
            </geometry>
        </collision>
    </link>
    <link name="right_outer_finger">
        <inertial>
            <origin xyz="0.00030115855001899 0.0373907951953854 -0.0208027427000385" rpy="0 0 0"/>
            <mass value="0.022614240507152"/>
            <inertia ixx="1.52518312458174E-05" ixy="9.76583423954399E-10" ixz="-5.43838577022588E-10"
                     iyy="6.17694243867776E-06" iyz="6.78636130740228E-06" izz="1.16494917907219E-05"/>
        </inertial>
        <visual>
            <origin rpy="0 0 0" xyz="0 0 0"/>
            <geometry>
                <mesh filename="meshes/gripper/visual/robotiq_arg2f_85_outer_finger.obj"/>
            </geometry>
            <material name="">
                <color rgba="0.1 0.1 0.1 1"/>
            </material>
        </visual>
        <collision>
            <origin rpy="0 0 0" xyz="0 0 0"/>
            <geometry>
                <mesh filename="meshes/gripper/collision/robotiq_arg2f_85_outer_finger.obj"/>
            </geometry>
        </collision>
    </link>
    <link name="right_inner_finger">
        <inertial>
            <origin xyz="0.000299999999999317 0.0160078233491243 -0.0136945669206257" rpy="0 0 0"/>
            <mass value="0.0104003125914103"/>
            <inertia ixx="2.71909453810972E-06" ixy="1.35402465472579E-21" ixz="-7.1817349065269E-22"
                     iyy="7.69100314106116E-07" iyz="6.74715432769696E-07" izz="2.30315190420171E-06"/>
        </inertial>
        <visual>
            <origin rpy="0 0 0" xyz="0 0 0"/>
            <geometry>
                <mesh filename="meshes/gripper/visual/robotiq_arg2f_85_inner_finger_GT.obj"/>
            </geometry>
            <material name="">
                <color rgba="0.1 0.1 0.1 1"/>
            </material>
        </visual>
        <collision>
            <origin rpy="0 0 0" xyz="0 0 0"/>
            <geometry>
                <mesh filename="meshes/gripper/collision/robotiq_arg2f_85_inner_finger_GT_convex.stl"/>
            </geometry>
        </collision>
    </link>
    <link name="right_inner_knuckle">
        <inertial>
            <origin xyz="0.000123011831763771 0.0507850843201817 0.00103968640075166" rpy="0 0 0"/>
            <mass value="0.0271177346495152"/>
            <inertia ixx="2.61910379223783E-05" ixy="-2.43616858946494E-07" ixz="-6.37789906117123E-09"
                     iyy="2.8270243746167E-06" iyz="-5.37200748039765E-07" izz="2.83695868220296E-05"/>
        </inertial>
        <visual>
            <origin rpy="0 0 0" xyz="0 0 0"/>
            <geometry>
                <mesh filename="meshes/gripper/visual/robotiq_arg2f_85_inner_knuckle.obj"/>
            </geometry>
            <material name="">
                <color rgba="0.1 0.1 0.1 1"/>
            </material>
        </visual>
        <collision>
            <origin rpy="0 0 0" xyz="0 0 0"/>
            <geometry>
                <mesh filename="meshes/gripper/collision/robotiq_arg2f_85_inner_knuckle.obj"/>
            </geometry>
        </collision>
    </link>

    <joint name="omni_chassis_joint" type="fixed">
        <parent link="base_link"/>
        <child link="omni_chassis_base_link"/>
        <axis xyz="1. 0. 0."/>
        <origin xyz="0.0 0.0 0.0" rpy="0.0 0.0 0.0"/>
    </joint>
    <joint name="omni_chassis_leg_mount_joint" type="fixed">
        <parent link="omni_chassis_base_link"/>
        <child link="omni_chassis_leg_mount_link"/>
        <axis xyz="1. 0. 0."/>
        <origin xyz="0.134 0.0 0.13" rpy="0.0 0.0 0.0"/>
    </joint>
    <joint name="leg_joint" type="fixed">
        <parent link="omni_chassis_leg_mount_link"/>
        <child link="leg_base_link"/>
        <axis xyz="1. 0. 0."/>
        <origin xyz="0.0 0.0 0.0" rpy="0.0 0.0 0.0"/>
    </joint>
    <joint name="leg_joint1" type="fixed">
        <limit effort="169.0" velocity="1.0" lower="0.0" upper="0.994837674"/>
        <parent link="leg_base_link"/>
        <child link="leg_link1"/>
        <axis xyz="0. 0. 1."/>
        <origin xyz="0.0 0.0 0.0" rpy="1.5707963267948968 -0.6850196325897934 -3.141592653589793"/>
    </joint>
    <joint name="leg_joint2" type="fixed">
        <limit effort="169.0" velocity="1.0" lower="0.0" upper="3.05"/>
        <parent link="leg_link1"/>
        <child link="leg_link2"/>
        <axis xyz="0. 0. 1."/>
        <origin xyz="0.45 0.0 0.0" rpy="-3.141592653589793 1.1414186833099885e-16 1.556573021"/>
    </joint>
    <joint name="leg_joint3" type="fixed">
        <limit effort="84.0" velocity="1.0" lower="0.0" upper="2.35619449"/>
        <parent link="leg_link2"/>
        <child link="leg_link3"/>
        <axis xyz="0. 0. 1."/>
        <origin xyz="0.39 0.0 0.0" rpy="-3.141592653589793 9.200531434171862e-17 2.2915926535897935"/>
    </joint>
    <joint name="leg_joint4" type="fixed">
        <limit effort="30.0" velocity="1.0" lower="-1.570796327" upper="1.570796327"/>
        <parent link="leg_link3"/>
        <child link="leg_link4"/>
        <axis xyz="0. 0. 1."/>
        <origin xyz="0.0 0.0 0.0" rpy="1.5707963267948966 -0.0 -3.141592653589793"/>
    </joint>
    <joint name="leg_end_effector_mount_joint" type="fixed">
        <parent link="leg_link4"/>
        <child link="leg_end_effector_mount_link"/>
        <axis xyz="1. 0. 0."/>
        <origin xyz="0.0 0.0 0.0" rpy="0.0 0.0 0.0"/>
    </joint>
    <joint name="torso_joint" type="fixed">
        <parent link="leg_end_effector_mount_link"/>
        <child link="torso_base_link"/>
        <axis xyz="1. 0. 0."/>
        <origin xyz="0.0 0.0 0.0" rpy="0.0 0.0 0.0"/>
    </joint>
    <joint name="torso_head_mount_joint" type="fixed">
        <parent link="torso_base_link"/>
        <child link="torso_head_mount_link"/>
        <axis xyz="1. 0. 0."/>
        <origin xyz="-0.0081669 5e-05 0.58394" rpy="0.0 0.0 0.0"/>
    </joint>
    <joint name="torso_right_arm_mount_joint" type="fixed">
        <parent link="torso_base_link"/>
        <child link="torso_right_arm_mount_link"/>
        <axis xyz="1. 0. 0."/>
        <origin xyz="0.0 -0.206 0.39599" rpy="-1.5707963267948966 0.0 3.141592653589793"/>
    </joint>
    <joint name="torso_left_arm_mount_joint" type="fixed">
        <parent link="torso_base_link"/>
        <child link="torso_left_arm_mount_link"/>
        <axis xyz="1. 0. 0."/>
        <origin xyz="0.0 0.206 0.39599" rpy="1.5707963267948966 0.0 3.141592653589793"/>
    </joint>
    <joint name="head_joint" type="fixed">
        <parent link="torso_head_mount_link"/>
        <child link="head_base_link"/>
        <axis xyz="1. 0. 0."/>
        <origin xyz="0.0 0.0 0.0" rpy="0.0 0.0 0.0"/>
    </joint>
    <joint name="head_joint1" type="fixed">
        <limit effort="4.0" velocity="1.5" lower="-1.570796327" upper="1.570796327"/>
        <parent link="head_base_link"/>
        <child link="head_link1"/>
        <axis xyz="0. 0. 1."/>
        <origin xyz="0.0 0.0 0.0" rpy="0.0 0.0 0.0"/>
    </joint>
    <joint name="head_joint2" type="fixed">
        <limit effort="4.0" velocity="1.5" lower="-0.366519143" upper="0.366519143"/>
        <parent link="head_link1"/>
        <child link="head_link2"/>
        <axis xyz="0. 0. 1."/>
        <origin xyz="0.0 0.0 0.0" rpy="-1.5707963267948966 0.0 0.0"/>
    </joint>
    <joint name="head_end_effector_mount_joint" type="fixed">
        <parent link="head_link2"/>
        <child link="head_end_effector_mount_link"/>
        <axis xyz="1. 0. 0."/>
        <origin xyz="0.0 0.0 0.0" rpy="0.0 0.0 0.0"/>
    </joint>

    <!--  Right Joints  -->
    <joint name="right_arm_joint" type="fixed">
        <parent link="torso_right_arm_mount_link"/>
        <child link="right_arm_base_link"/>
        <axis xyz="1. 0. 0."/>
        <origin xyz="0.0 0.0 0.0" rpy="0.0 0.0 0.0"/>
    </joint>
    <joint name="right_arm_joint1" type="fixed">
        <dynamics damping="0.0" friction="0.0"/>
        <limit effort="60.0" velocity="1.5" lower="-3.05" upper="3.05"/>
        <parent link="right_arm_base_link"/>
        <child link="right_arm_link1"/>
        <axis xyz="0. 0. 1."/>
        <origin xyz="0.0 0.0 0.0" rpy="0.0 -0.0 0.6499999999999999"/>
    </joint>
    <joint name="right_arm_joint2" type="fixed">
        <dynamics damping="0.0" friction="0.0"/>
        <limit effort="60.0" velocity="1.5" lower="-1.5707963267948966" upper="1.7"/>
        <parent link="right_arm_link1"/>
        <child link="right_arm_link2"/>
        <axis xyz="0. 0. 1."/>
        <origin xyz="0.0 0.0 0.0" rpy="-1.5707963267948963 -1.26 3.141592653589793"/>
    </joint>
    <joint name="right_arm_joint3" type="fixed">
        <dynamics damping="0.0" friction="0.0"/>
        <limit effort="30.0" velocity="1.5" lower="-2.9" upper="2.9"/>
        <parent link="right_arm_link2"/>
        <child link="right_arm_link3"/>
        <axis xyz="0. 0. 1."/>
        <origin xyz="0.0 -0.35 0.0" rpy="-1.5707963267948966 -1.4707963267948971 3.141592653589793"/>
    </joint>
    <joint name="right_arm_joint4" type="fixed">
        <dynamics damping="0.0" friction="0.0"/>
        <limit effort="30.0" velocity="1.5" lower="-2.1" upper="2.1"/>
        <parent link="right_arm_link3"/>
        <child link="right_arm_link4"/>
        <axis xyz="0. 0. 1."/>
        <origin xyz="0.0 0.0 0.0" rpy="1.5707963267948957 1.5058926535897934 -1.064573695336043e-15"/>
    </joint>
    <joint name="right_arm_joint5" type="fixed">
        <dynamics damping="0.0" friction="0.0"/>
        <limit effort="10.0" velocity="1.5" lower="-2.9" upper="2.9"/>
        <parent link="right_arm_link4"/>
        <child link="right_arm_link5"/>
        <axis xyz="0. 0. 1."/>
        <origin xyz="0.0 -0.36 0.0" rpy="-1.5707963267948961 1.441592653589793 -3.1415926535897927"/>
    </joint>
    <joint name="right_arm_joint6" type="fixed">
        <dynamics damping="0.0" friction="0.0"/>
        <limit effort="10.0" velocity="1.5" lower="-0.785398163" upper="0.785398163"/>
        <parent link="right_arm_link5"/>
        <child link="right_arm_link6"/>
        <axis xyz="0. 0. 1."/>
        <origin xyz="0.0 0.0 0.0" rpy="1.5707963267948966 1.4597963267948968 -1.8369701987210302e-16"/>
    </joint>
    <joint name="right_arm_joint7" type="fixed">
        <dynamics damping="0.0" friction="0.0"/>
        <limit effort="10.0" velocity="1.5" lower="-1.4" upper="1.4"/>
        <parent link="right_arm_link6"/>
        <child link="right_arm_link7"/>
        <axis xyz="0. 0. 1."/>
        <origin xyz="0.0 0.0 0.0" rpy="-1.5707963267948966 -0.8996 -7.709908062174648e-17"/>
    </joint>

    <!--  Right Tool Joint  -->
    <joint name="right_robotiq_base_joint" type="fixed">
        <parent link="right_arm_link7"/>
        <child link="right_robotiq_arg2f_base_link"/>
        <axis xyz="1 0 0"/>
        <origin rpy="1.5707963267948968 1.5707963267948968 -1.5707963267948968" xyz="-0.1018 0 0"/>
    </joint>
    <joint name="right_robotiq_left_joint_0" type="fixed">
        <origin rpy="0 0 3.141592653589793" xyz="0 -0.0306011 0.054904"/>
        <parent link="right_robotiq_arg2f_base_link"/>
        <child link="right_robotiq_left_outer_knuckle"/>
        <axis xyz="1 0 0"/>
        <limit effort="1000" lower="0" upper="0.8" velocity="2.0"/>
    </joint>
    <joint name="right_robotiq_left_joint_fixed" type="fixed">
        <origin rpy="0 0 0" xyz="0 0.0315 -0.0041"/>
        <parent link="right_robotiq_left_outer_knuckle"/>
        <child link="right_robotiq_left_outer_finger"/>
        <axis xyz="1 0 0"/>
        <limit effort="1000" lower="-1.57" upper="0" velocity="2.0"/>
    </joint>
    <joint name="right_robotiq_left_joint_1" type="fixed">
        <origin rpy="0 0 0" xyz="0 0.0061 0.0471"/>
        <parent link="right_robotiq_left_outer_finger"/>
        <child link="right_robotiq_left_inner_finger"/>
        <axis xyz="-1 0 0"/>
        <limit effort="1000" lower="-0.872664" upper="0.872664" velocity="2.0"/>
    </joint>
    <joint name="right_robotiq_left_joint_2" type="fixed">
        <!-- <origin xyz="0 ${reflect * -0.0127} 0.06142" rpy="${pi / 2 + .725} 0 ${(reflect - 1) * pi / 2}" /> -->
        <origin rpy="0 0 3.141592653589793" xyz="0 -0.0127 0.06142"/>
        <parent link="right_robotiq_arg2f_base_link"/>
        <child link="right_robotiq_left_inner_knuckle"/>
        <axis xyz="1 0 0"/>
        <limit effort="1000" lower="-0.29670597283" upper="0.8" velocity="2.0"/>
    </joint>
    <joint name="right_robotiq_right_joint_0" type="fixed">
        <origin rpy="0 0 0" xyz="0 0.0306011 0.054904"/>
        <parent link="right_robotiq_arg2f_base_link"/>
        <child link="right_robotiq_right_outer_knuckle"/>
        <axis xyz="1 0 0"/>
        <limit effort="1000" lower="0" upper="0.8" velocity="2.0"/>
    </joint>
    <joint name="right_robotiq_right_joint_fixed" type="fixed">
        <origin rpy="0 0 0" xyz="0 0.0315 -0.0041"/>
        <parent link="right_robotiq_right_outer_knuckle"/>
        <child link="right_robotiq_right_outer_finger"/>
        <axis xyz="1 0 0"/>
        <limit effort="1000" lower="-1.57" upper="0" velocity="2.0"/>
    </joint>
    <joint name="right_robotiq_right_joint_1" type="fixed">
        <origin rpy="0 0 0" xyz="0 0.0061 0.0471"/>
        <parent link="right_robotiq_right_outer_finger"/>
        <child link="right_robotiq_right_inner_finger"/>
        <axis xyz="-1 0 0"/>
        <limit effort="1000" lower="-0.872664" upper="0.872664" velocity="2.0"/>
    </joint>
    <joint name="right_robotiq_right_joint_2" type="fixed">
        <!-- <origin xyz="0 ${reflect * -0.0127} 0.06142" rpy="${pi / 2 + .725} 0 ${(reflect - 1) * pi / 2}" /> -->
        <origin rpy="0 0 0.0" xyz="0 0.0127 0.06142"/>
        <parent link="right_robotiq_arg2f_base_link"/>
        <child link="right_robotiq_right_inner_knuckle"/>
        <axis xyz="1 0 0"/>
        <limit effort="1000" lower="-0.29670597283" upper="0.8" velocity="2.0"/>
    </joint>

    <!-- Left Joints -->
    <joint name="left_arm_joint" type="fixed">
        <parent link="torso_left_arm_mount_link"/>
        <child link="left_arm_base_link"/>
        <axis xyz="1. 0. 0."/>
        <origin xyz="0.0 0.0 0.0" rpy="0.0 0.0 0.0"/>
    </joint>
    <joint name="left_arm_joint1" type="revolute">
        <dynamics damping="0.0" friction="0.0"/>
        <limit effort="60.0" velocity="1.5" lower="-3.05" upper="3.05"/>
        <parent link="left_arm_base_link"/>
        <child link="left_arm_link1"/>
        <axis xyz="0. 0. 1."/>
        <origin xyz="0.0 0.0 0.0" rpy="0.0 0.0 0.0"/>
    </joint>
    <joint name="left_arm_joint2" type="revolute">
        <dynamics damping="0.0" friction="0.0"/>
        <limit effort="60.0" velocity="1.5" lower="-1.7" upper="1.57"/>
        <parent link="left_arm_link1"/>
        <child link="left_arm_link2"/>
        <axis xyz="0. 0. 1."/>
        <origin xyz="0.0 0.0 0.0" rpy="1.5707963267948966 0.0 3.141592653589793"/>
    </joint>
    <joint name="left_arm_joint3" type="revolute">
        <dynamics damping="0.0" friction="0.0"/>
        <limit effort="30.0" velocity="1.5" lower="-2.9" upper="2.9"/>
        <parent link="left_arm_link2"/>
        <child link="left_arm_link3"/>
        <axis xyz="0. 0. 1."/>
        <origin xyz="0.0 0.35 0.0" rpy="-1.5707963267948966 -1.5707963267948966 0.0"/>
    </joint>
    <joint name="left_arm_joint4" type="revolute">
        <dynamics damping="0.0" friction="0.0"/>
        <limit effort="30.0" velocity="1.5" lower="-2.1" upper="2.1"/>
        <parent link="left_arm_link3"/>
        <child link="left_arm_link4"/>
        <axis xyz="0. 0. 1."/>
        <origin xyz="0.0 0.0 0.0" rpy="1.5707963267948966 0.0 -3.141592653589793"/>
    </joint>
    <joint name="left_arm_joint5" type="revolute">
        <dynamics damping="0.0" friction="0.0"/>
        <limit effort="10.0" velocity="1.5" lower="-2.9" upper="2.9"/>
        <parent link="left_arm_link4"/>
        <child link="left_arm_link5"/>
        <axis xyz="0. 0. 1."/>
        <origin xyz="0.0 0.36 0.0" rpy="1.5707963267948968 1.2246467991473532e-16 -3.141592653589793"/>
    </joint>
    <joint name="left_arm_joint6" type="revolute">
        <dynamics damping="0.0" friction="0.0"/>
        <limit effort="10.0" velocity="1.5" lower="-0.7" upper="0.7"/>
        <parent link="left_arm_link5"/>
        <child link="left_arm_link6"/>
        <axis xyz="0. 0. 1."/>
        <origin xyz="0.0 0.0 0.0" rpy="1.5707963267948966 1.5707963267948966 0.0"/>
    </joint>
    <joint name="left_arm_joint7" type="revolute">
        <dynamics damping="0.0" friction="0.0"/>
        <limit effort="10.0" velocity="1.5" lower="-1.4" upper="1.4"/>
        <parent link="left_arm_link6"/>
        <child link="left_arm_link7"/>
        <axis xyz="0. 0. 1."/>
        <origin xyz="0.0 0.0 0.0" rpy="1.5707963267948966 0.0 0.0"/>
    </joint>
    <joint name="left_arm_end_effector_mount_joint" type="fixed">
        <parent link="left_arm_link7"/>
        <child link="left_arm_end_effector_mount_link"/>
        <axis xyz="1. 0. 0."/>
        <origin xyz="-0.083 0.0 0.0" rpy="-1.5707963267948966 0.0 3.141592653589793"/>
    </joint>
    <joint name="left_gripper_tcp_joint" type="fixed" dont_collapse="true">
        <parent link="robotiq_arg2f_base_link"/>
        <child link="left_gripper_tcp_link"/>
        <axis xyz="1. 0. 0."/>
        <origin xyz="0 0 0.181904" rpy="-3.141592653589793 -1.5707963267948966 0"/>
    </joint>

    <!-- Left Tool Joint -->
    <joint name="left_robotiq_base_joint" type="fixed">
        <parent link="left_arm_link7"/>
        <child link="robotiq_arg2f_base_link"/>
        <axis xyz="1 0 0"/>
        <origin rpy="1.5707963267948968 1.5707963267948968 -1.5707963267948968" xyz="-0.1018 0 0"/>
    </joint>
    <joint name="left_robotiq_left_joint_0" type="revolute">
        <origin rpy="0 0 3.141592653589793" xyz="0 -0.0306011 0.054904"/>
        <parent link="robotiq_arg2f_base_link"/>
        <child link="left_outer_knuckle"/>
        <axis xyz="1 0 0"/>
        <limit effort="1000" lower="0" upper="0.8" velocity="2.0"/>
    </joint>
    <joint name="left_robotiq_left_joint_fixed" type="fixed">
        <origin rpy="0 0 0" xyz="0 0.0315 -0.0041"/>
        <parent link="left_outer_knuckle"/>
        <child link="left_outer_finger"/>
        <axis xyz="1 0 0"/>
        <limit effort="1000" lower="-1.57" upper="0" velocity="2.0"/>
    </joint>
    <joint name="left_robotiq_left_joint_1" type="revolute">
        <origin rpy="0 0 0" xyz="0 0.0061 0.0471"/>
        <parent link="left_outer_finger"/>
        <child link="left_inner_finger"/>
        <axis xyz="-1 0 0"/>
        <limit effort="1000" lower="-0.872664" upper="0.872664" velocity="2.0"/>
    </joint>
    <joint name="left_robotiq_left_joint_2" type="revolute">
        <!-- <origin xyz="0 ${reflect * -0.0127} 0.06142" rpy="${pi / 2 + .725} 0 ${(reflect - 1) * pi / 2}" /> -->
        <origin rpy="0 0 3.141592653589793" xyz="0 -0.0127 0.06142"/>
        <parent link="robotiq_arg2f_base_link"/>
        <child link="left_inner_knuckle"/>
        <axis xyz="1 0 0"/>
        <limit effort="1000" lower="-0.29670597283" upper="0.8" velocity="2.0"/>
    </joint>
    <joint name="left_robotiq_right_joint_0" type="revolute">
        <origin rpy="0 0 0" xyz="0 0.0306011 0.054904"/>
        <parent link="robotiq_arg2f_base_link"/>
        <child link="right_outer_knuckle"/>
        <axis xyz="1 0 0"/>
        <limit effort="1000" lower="0" upper="0.8" velocity="2.0"/>
    </joint>
    <joint name="left_robotiq_right_joint_fixed" type="fixed">
        <origin rpy="0 0 0" xyz="0 0.0315 -0.0041"/>
        <parent link="right_outer_knuckle"/>
        <child link="right_outer_finger"/>
        <axis xyz="1 0 0"/>
        <limit effort="1000" lower="-1.57" upper="0" velocity="2.0"/>
    </joint>
    <joint name="left_robotiq_right_joint_1" type="revolute">
        <origin rpy="0 0 0" xyz="0 0.0061 0.0471"/>
        <parent link="right_outer_finger"/>
        <child link="right_inner_finger"/>
        <axis xyz="-1 0 0"/>
        <limit effort="1000" lower="-0.872664" upper="0.872664" velocity="2.0"/>
    </joint>
    <joint name="left_robotiq_right_joint_2" type="revolute">
        <!-- <origin xyz="0 ${reflect * -0.0127} 0.06142" rpy="${pi / 2 + .725} 0 ${(reflect - 1) * pi / 2}" /> -->
        <origin rpy="0 0 0.0" xyz="0 0.0127 0.06142"/>
        <parent link="robotiq_arg2f_base_link"/>
        <child link="right_inner_knuckle"/>
        <axis xyz="1 0 0"/>
        <limit effort="1000" lower="-0.29670597283" upper="0.8" velocity="2.0"/>
    </joint>

</robot>
